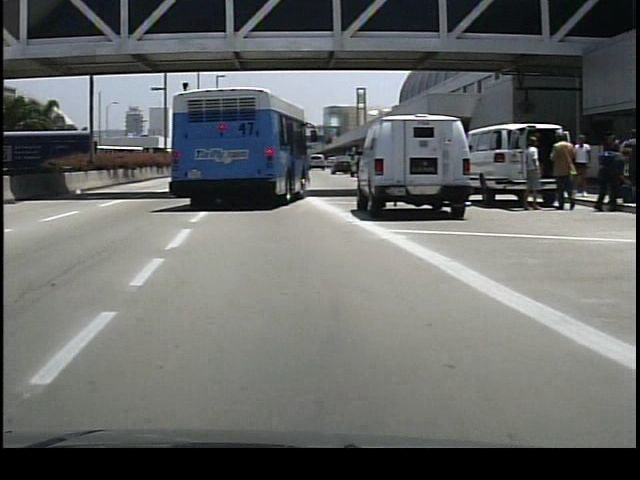person: (542, 130, 574, 215), (515, 133, 539, 215)
